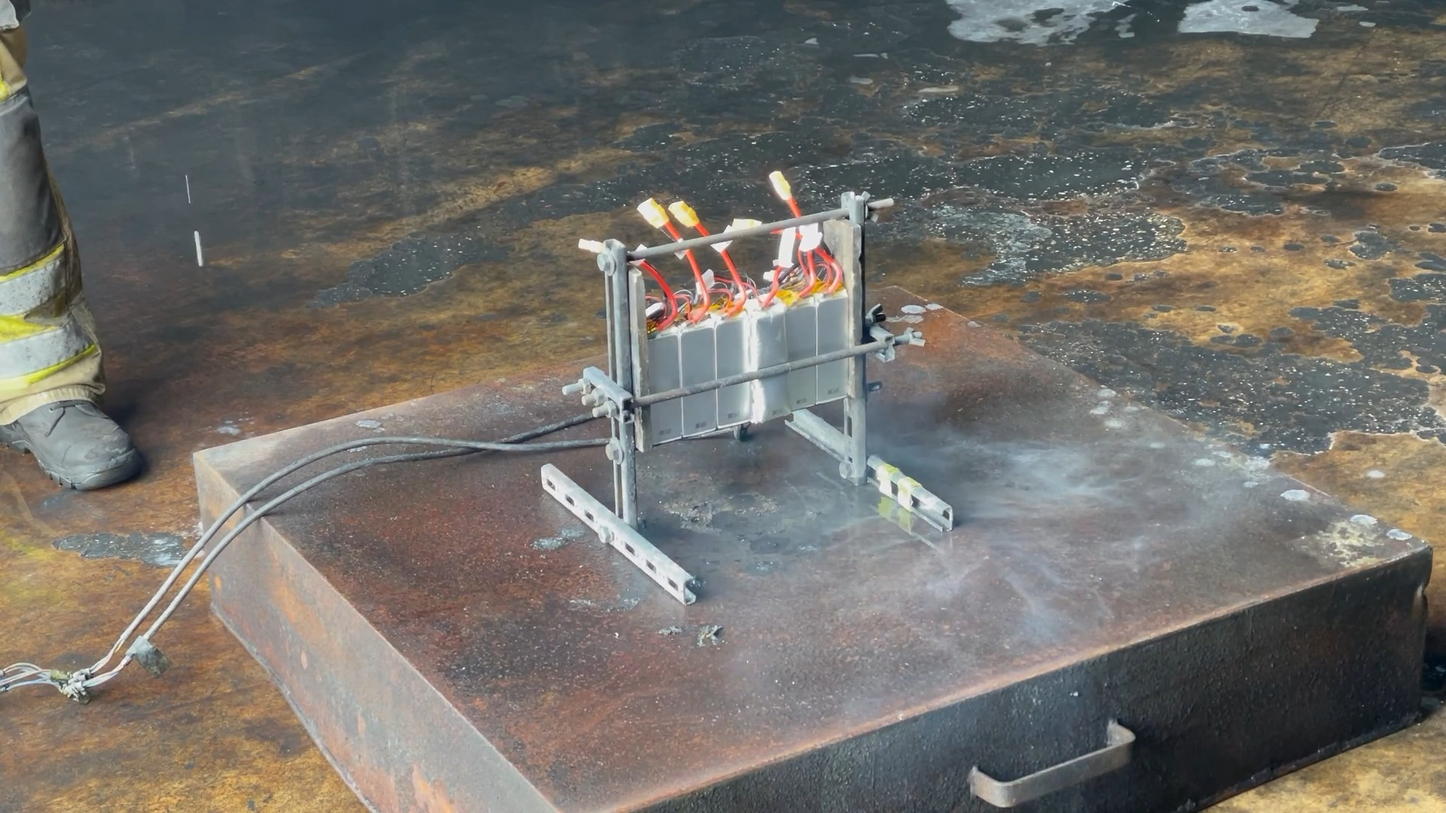smoke: (720, 378, 1216, 632)
